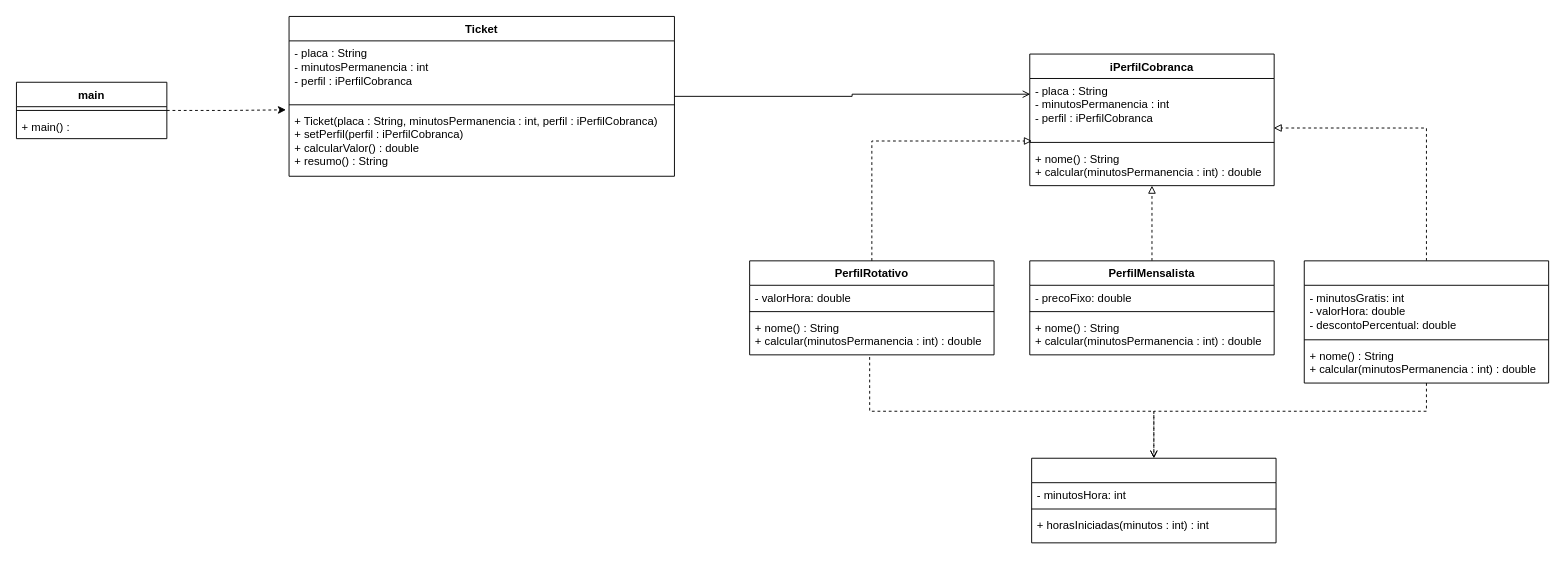
This 1565x562 diagram has some shape labels left out. Here are the shapes that lost their labels. From the top down, the box of each, then its label:
(1303, 260, 1549, 383): PerfilConveniado
(1031, 457, 1276, 543): CalculoDeHoras
